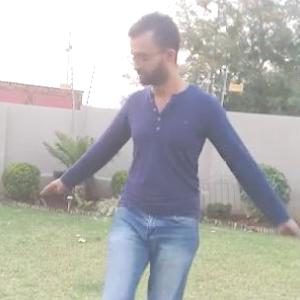land: (54, 27, 295, 292)
